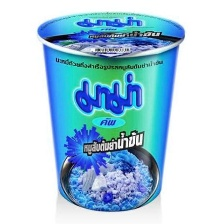paper_cup: (33, 5, 189, 216)
